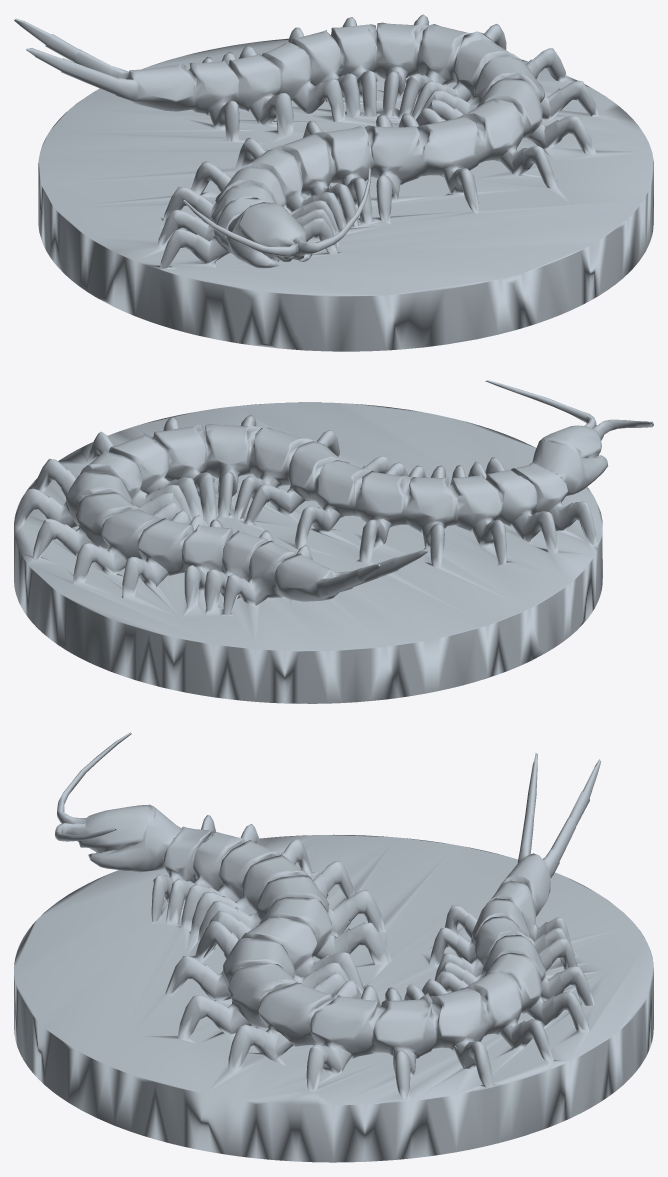
Rendered from giant-centipede.glb.
The picture shows the model from 3 angles, top to bottom: view 1: azimuth 30°, elevation 25°; view 2: azimuth 150°, elevation 25°; view 3: azimuth 270°, elevation 25°; orthographic projection. The views are drawn at different scales.
Visible parts, largest first — view 1: Giant_Centipede.001; view 2: Giant_Centipede.001; view 3: Giant_Centipede.001.
Part boxes in pixels (x1,y1,x2,y2): Giant_Centipede.001: (14, 14, 653, 351); Giant_Centipede.001: (14, 380, 653, 703); Giant_Centipede.001: (14, 732, 653, 1162).
Size of the model in its own units: 25.25 by 7.2 by 25.25.
1 material, 1 textured.
